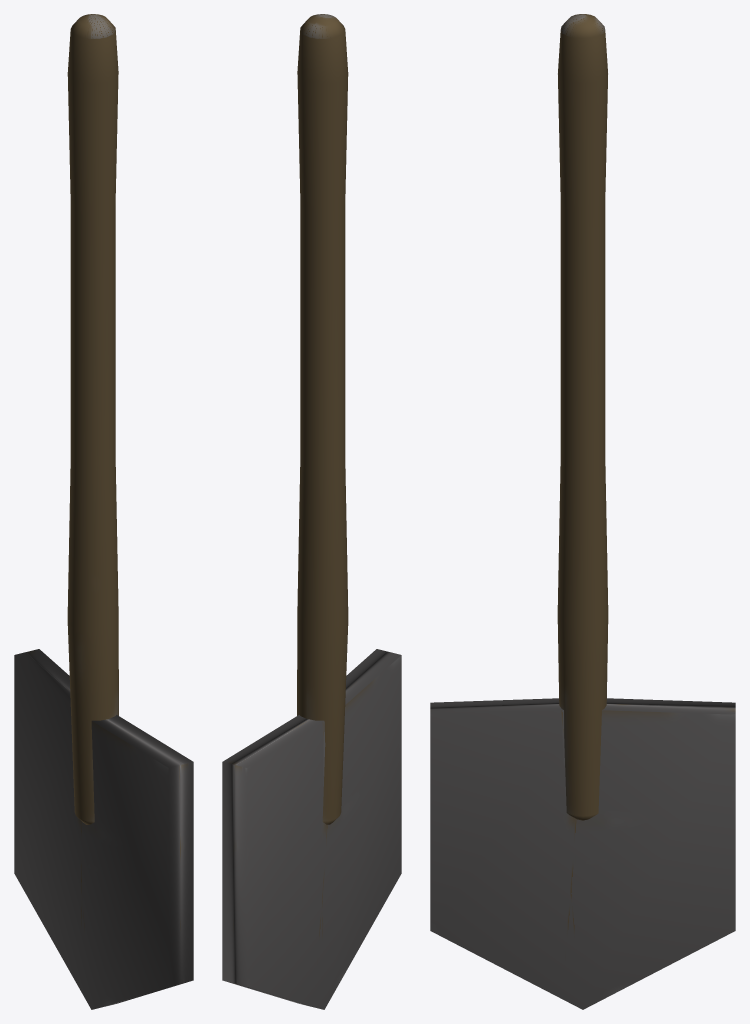
File: Shovel_01.FBX
3 views of the same model, side by side, from view 1: azimuth 30°, elevation 25°; view 2: azimuth 150°, elevation 25°; view 3: azimuth 270°, elevation 25° (orthographic).
Visible parts, largest first — view 1: RR_Shovel01_Spade_001, RR_Shovel01_Handle_001; view 2: RR_Shovel01_Spade_001, RR_Shovel01_Handle_001; view 3: RR_Shovel01_Spade_001, RR_Shovel01_Handle_001.
Boxes of the visible parts, x1,y1,x2,y2 form: RR_Shovel01_Spade_001: (14, 649, 193, 1009); RR_Shovel01_Handle_001: (67, 14, 118, 824); RR_Shovel01_Spade_001: (222, 649, 401, 1009); RR_Shovel01_Handle_001: (297, 14, 348, 824); RR_Shovel01_Spade_001: (430, 698, 735, 1009); RR_Shovel01_Handle_001: (557, 14, 608, 820).
Bounding box in the file's own units: 4.98 × 105 × 29.53.
2 materials, 2 textured.
